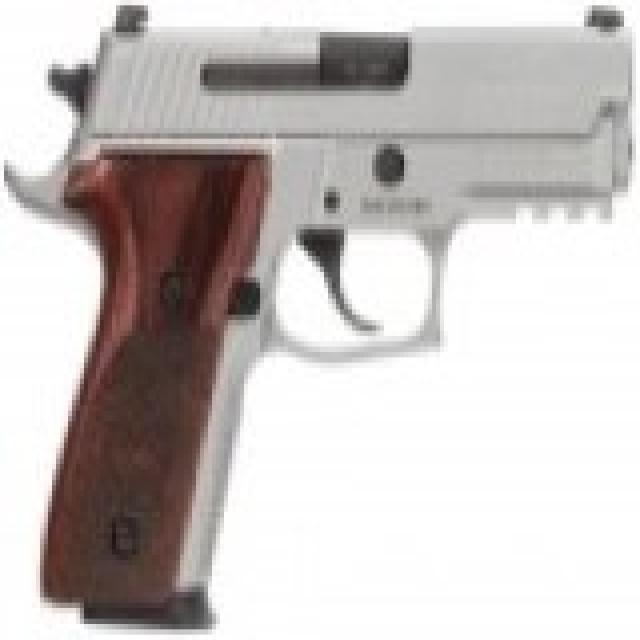gun: (4, 0, 628, 613)
